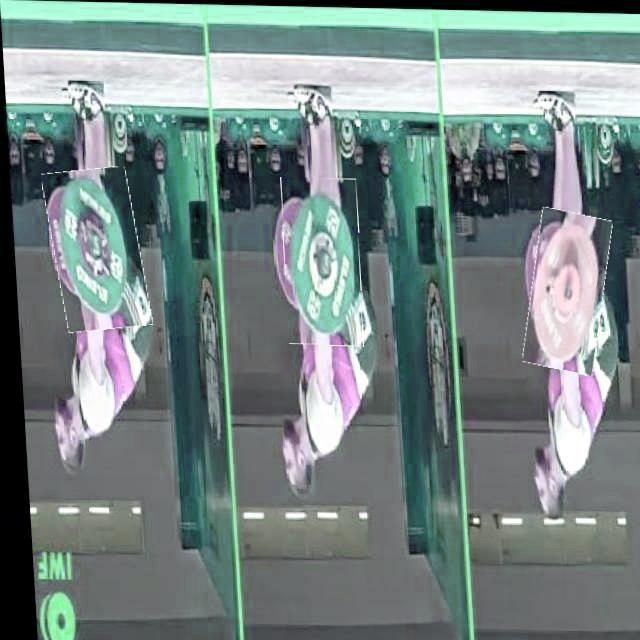barbell: (44, 167, 146, 332), (519, 207, 610, 372), (277, 176, 362, 345)
